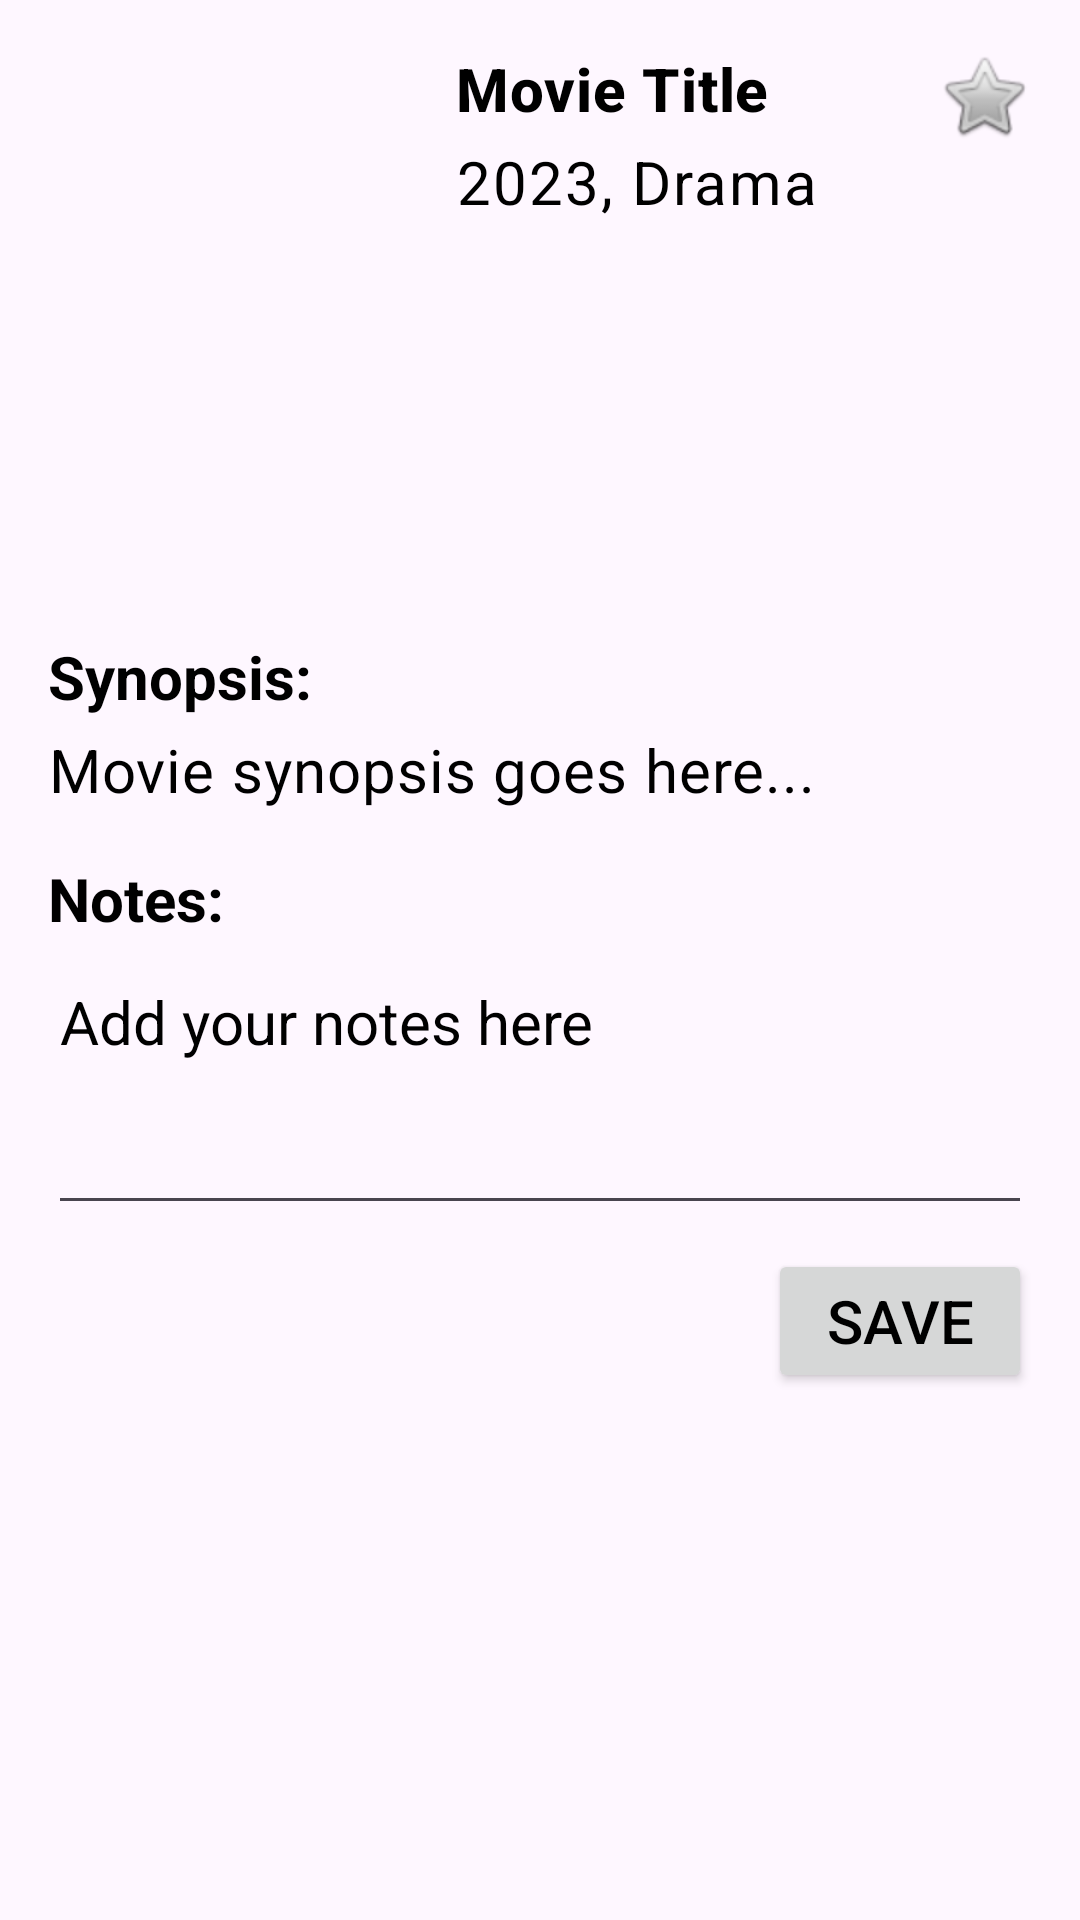

Icon bounding boxes for this 1080w x 1920h phone screenshot, format (x1, y1, x2, y2):
star off: (945, 58, 1025, 136)
